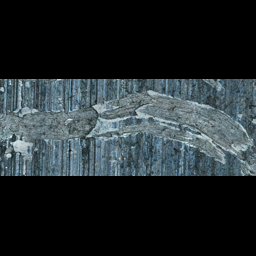d: (111, 88, 214, 146), (47, 94, 128, 144), (194, 110, 254, 173), (0, 100, 46, 167), (0, 79, 32, 95)
